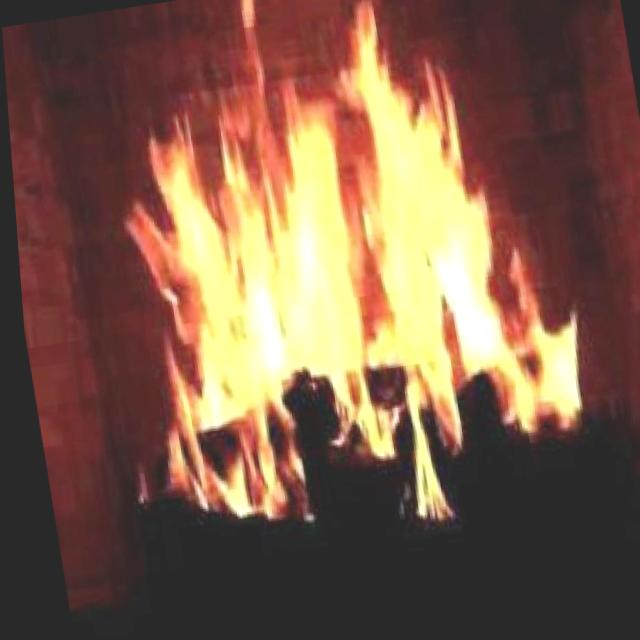Fire: (47, 0, 608, 581)
